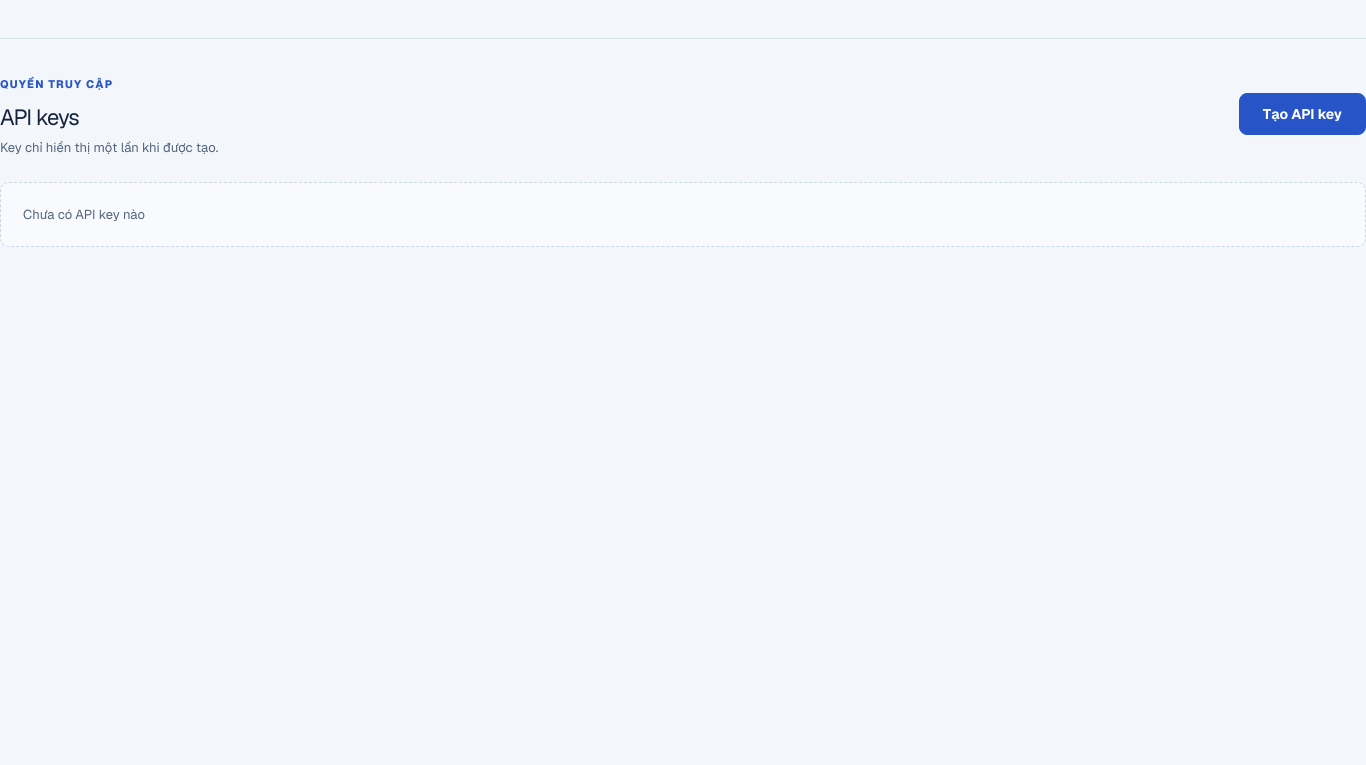
Test: ApiKeyPanel › keeps the create form open when issuance fails
Expected: the text "Chưa có API key nào" is shown, [0,182,1365,247]
Step 1. Click the button "Tạo API key" → (1302, 114), box [1239,93,1365,135]
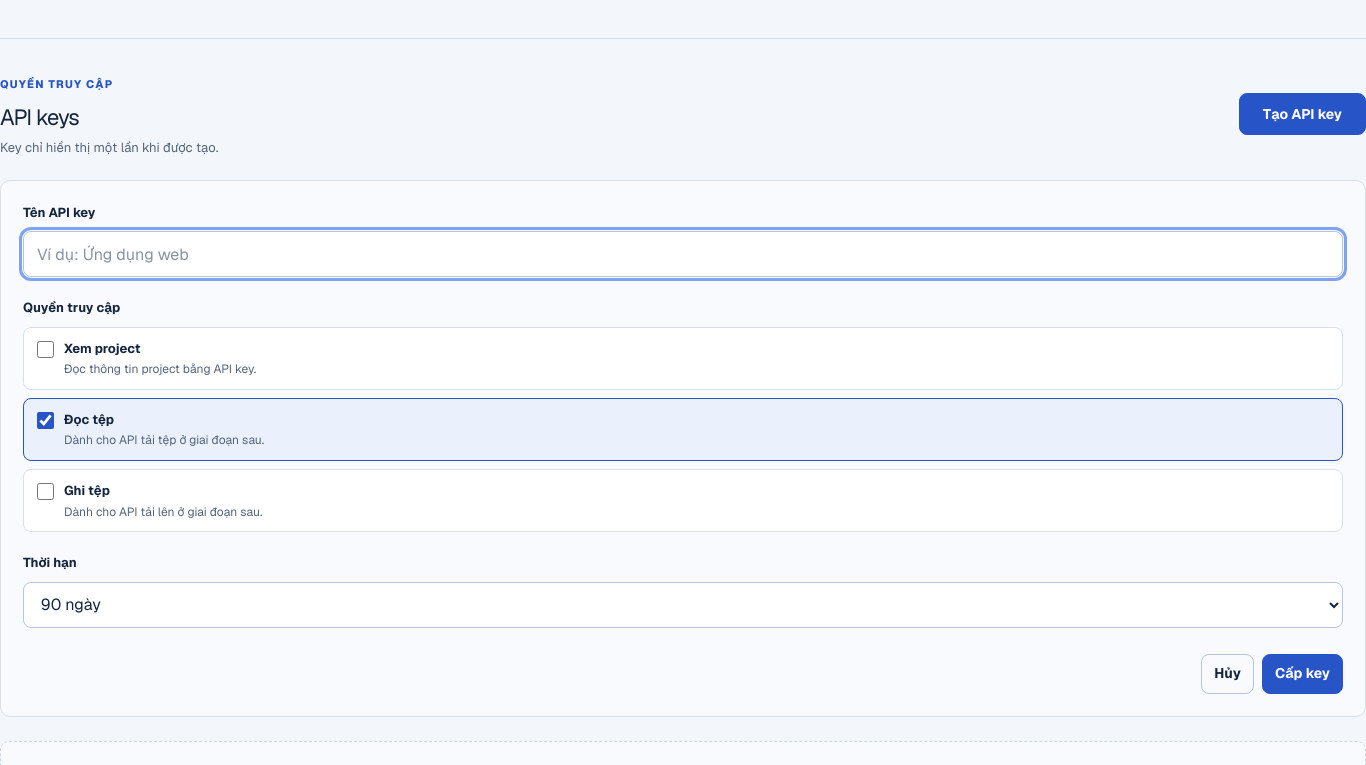
Step 2. Type "Reader" into the field labelled "Tên API key" → (683, 254), box [23,231,1343,277]
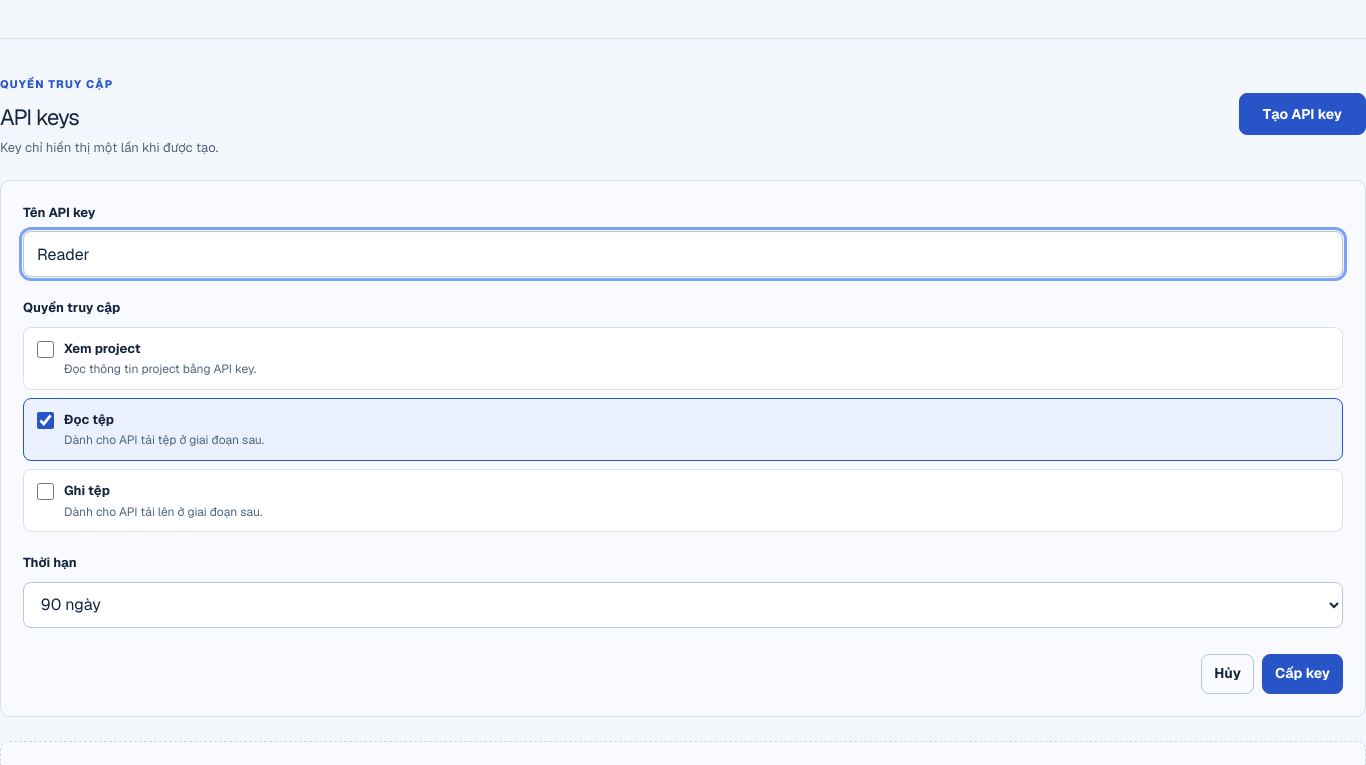
Step 3. Click the button "Cấp key" → (1302, 674), box [1262,654,1343,694]
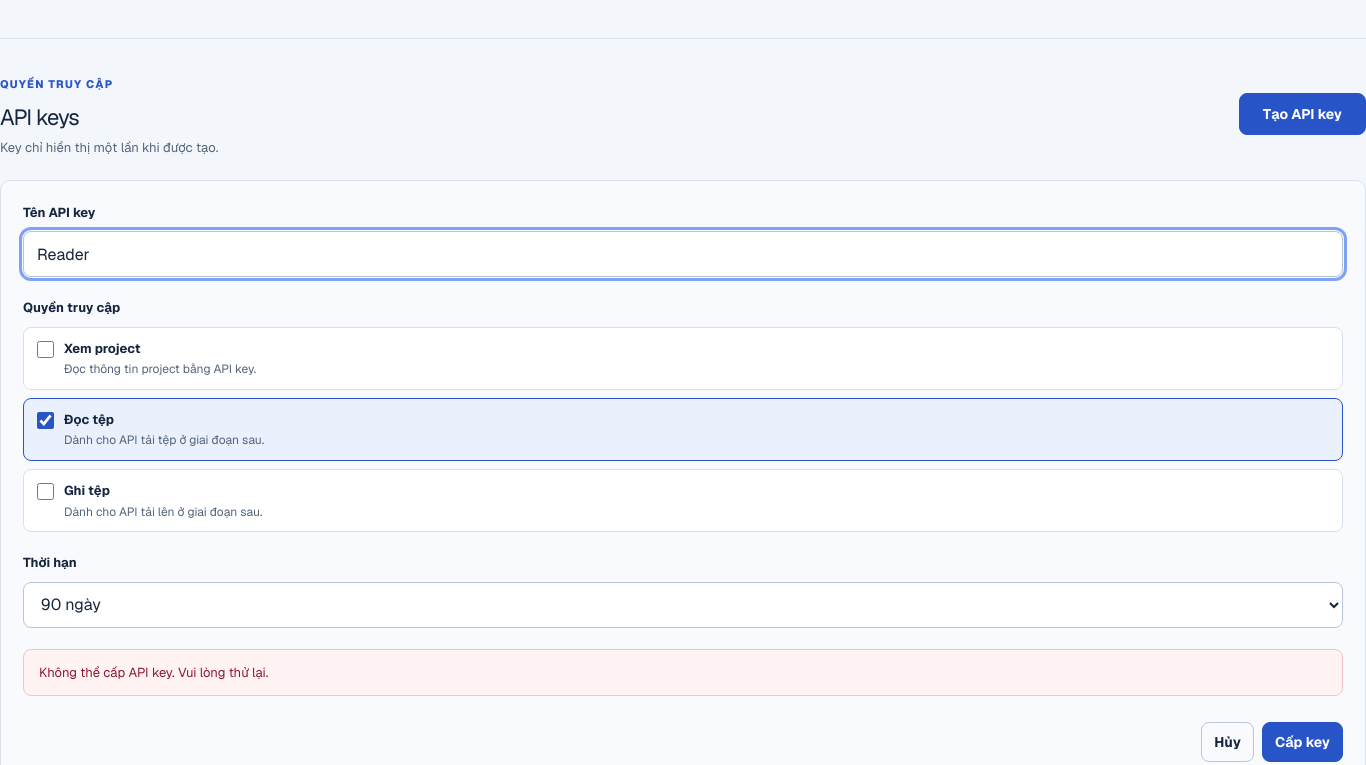
Now the text "Không thể cấp API key. Vui lòng thử lại." is shown, box [23,649,1343,696]
